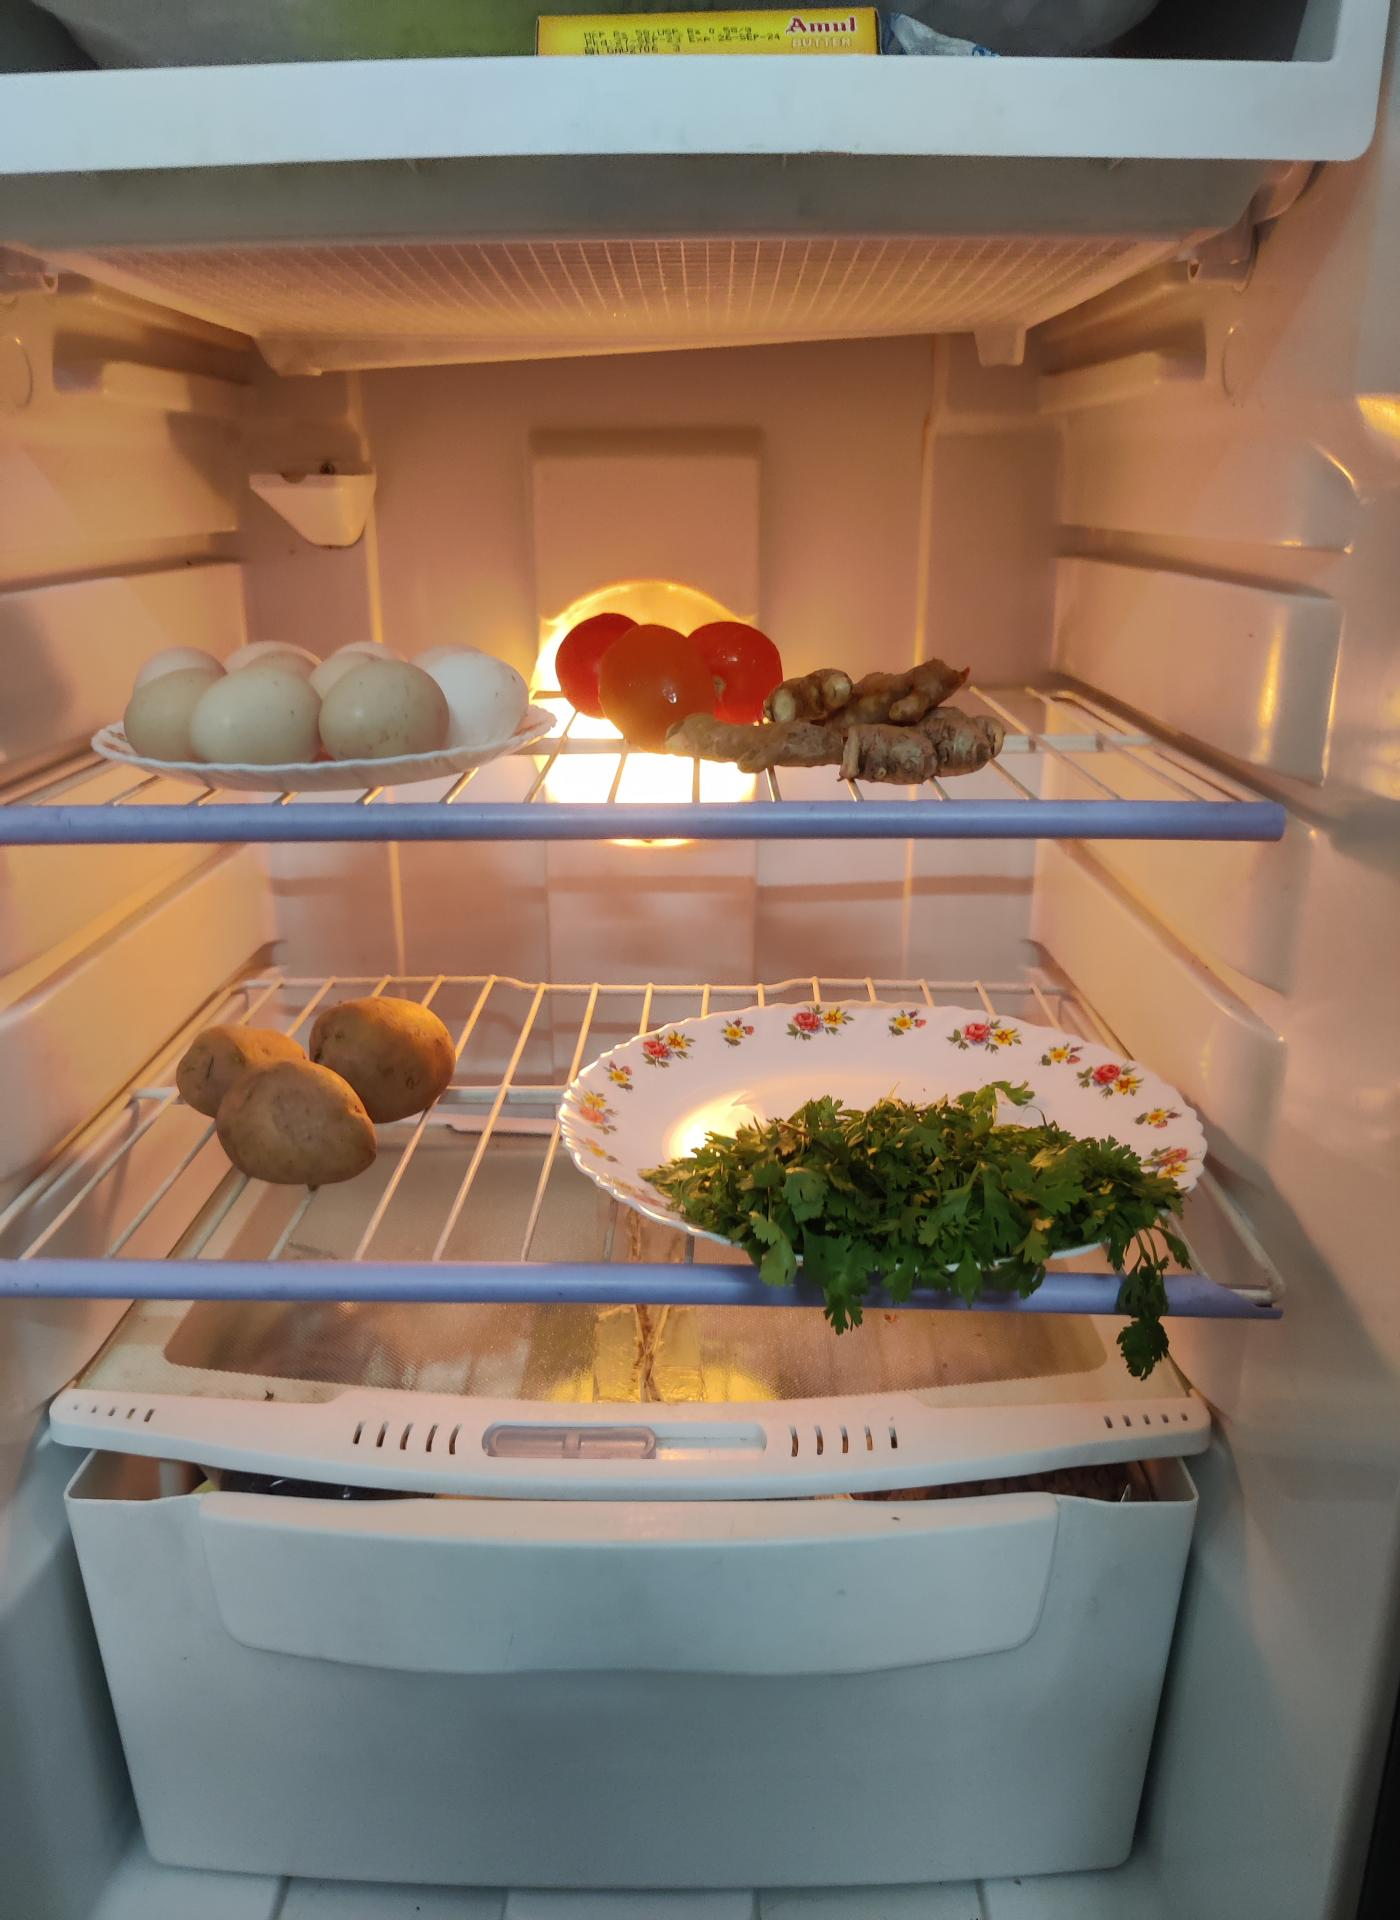coriander: (660, 1085, 1184, 1295)
egg: (125, 641, 523, 777)
ginger: (759, 657, 996, 786)
potato: (174, 994, 455, 1199)
tomato: (553, 598, 789, 730)
